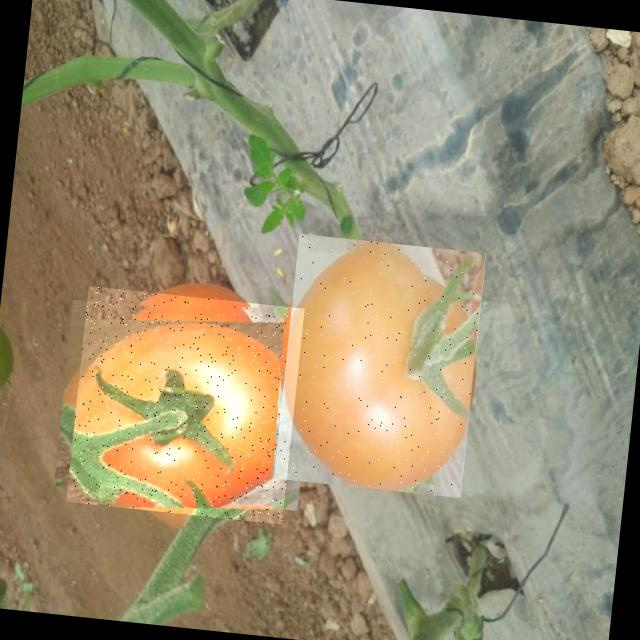Ripe Tomato: (66, 286, 304, 524), (273, 233, 486, 498)
